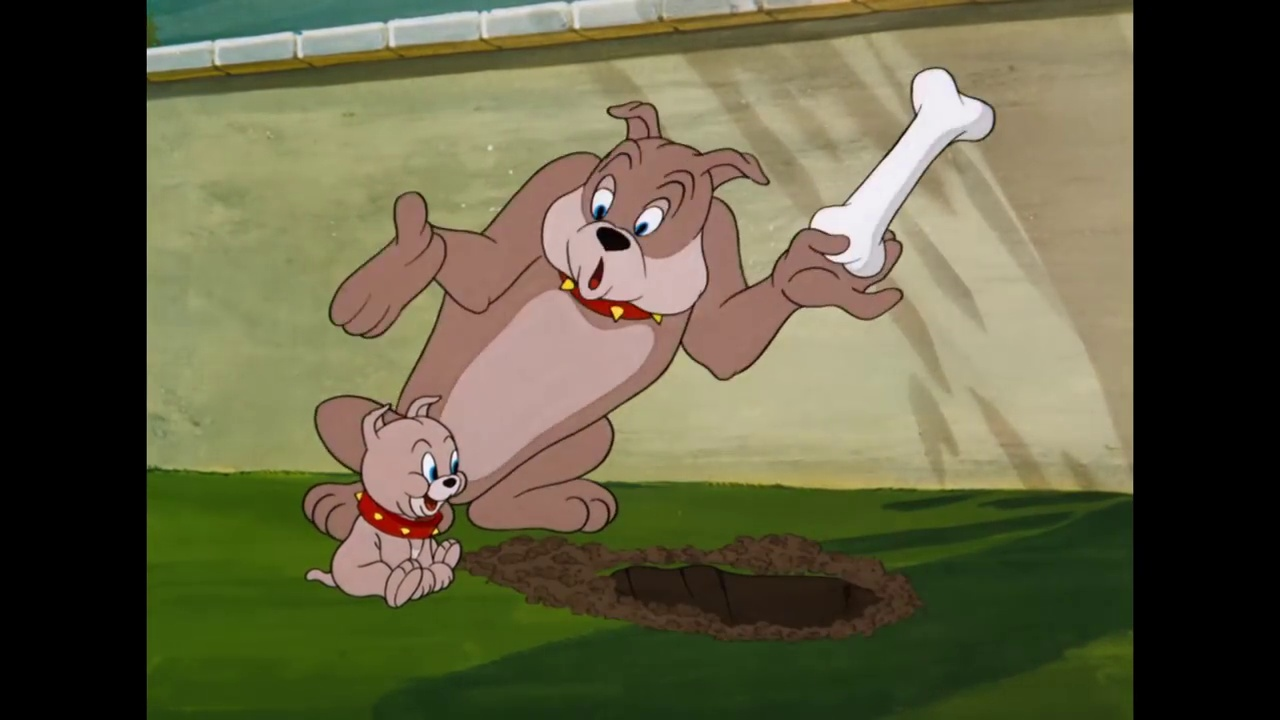spike: (531, 99, 774, 329)
